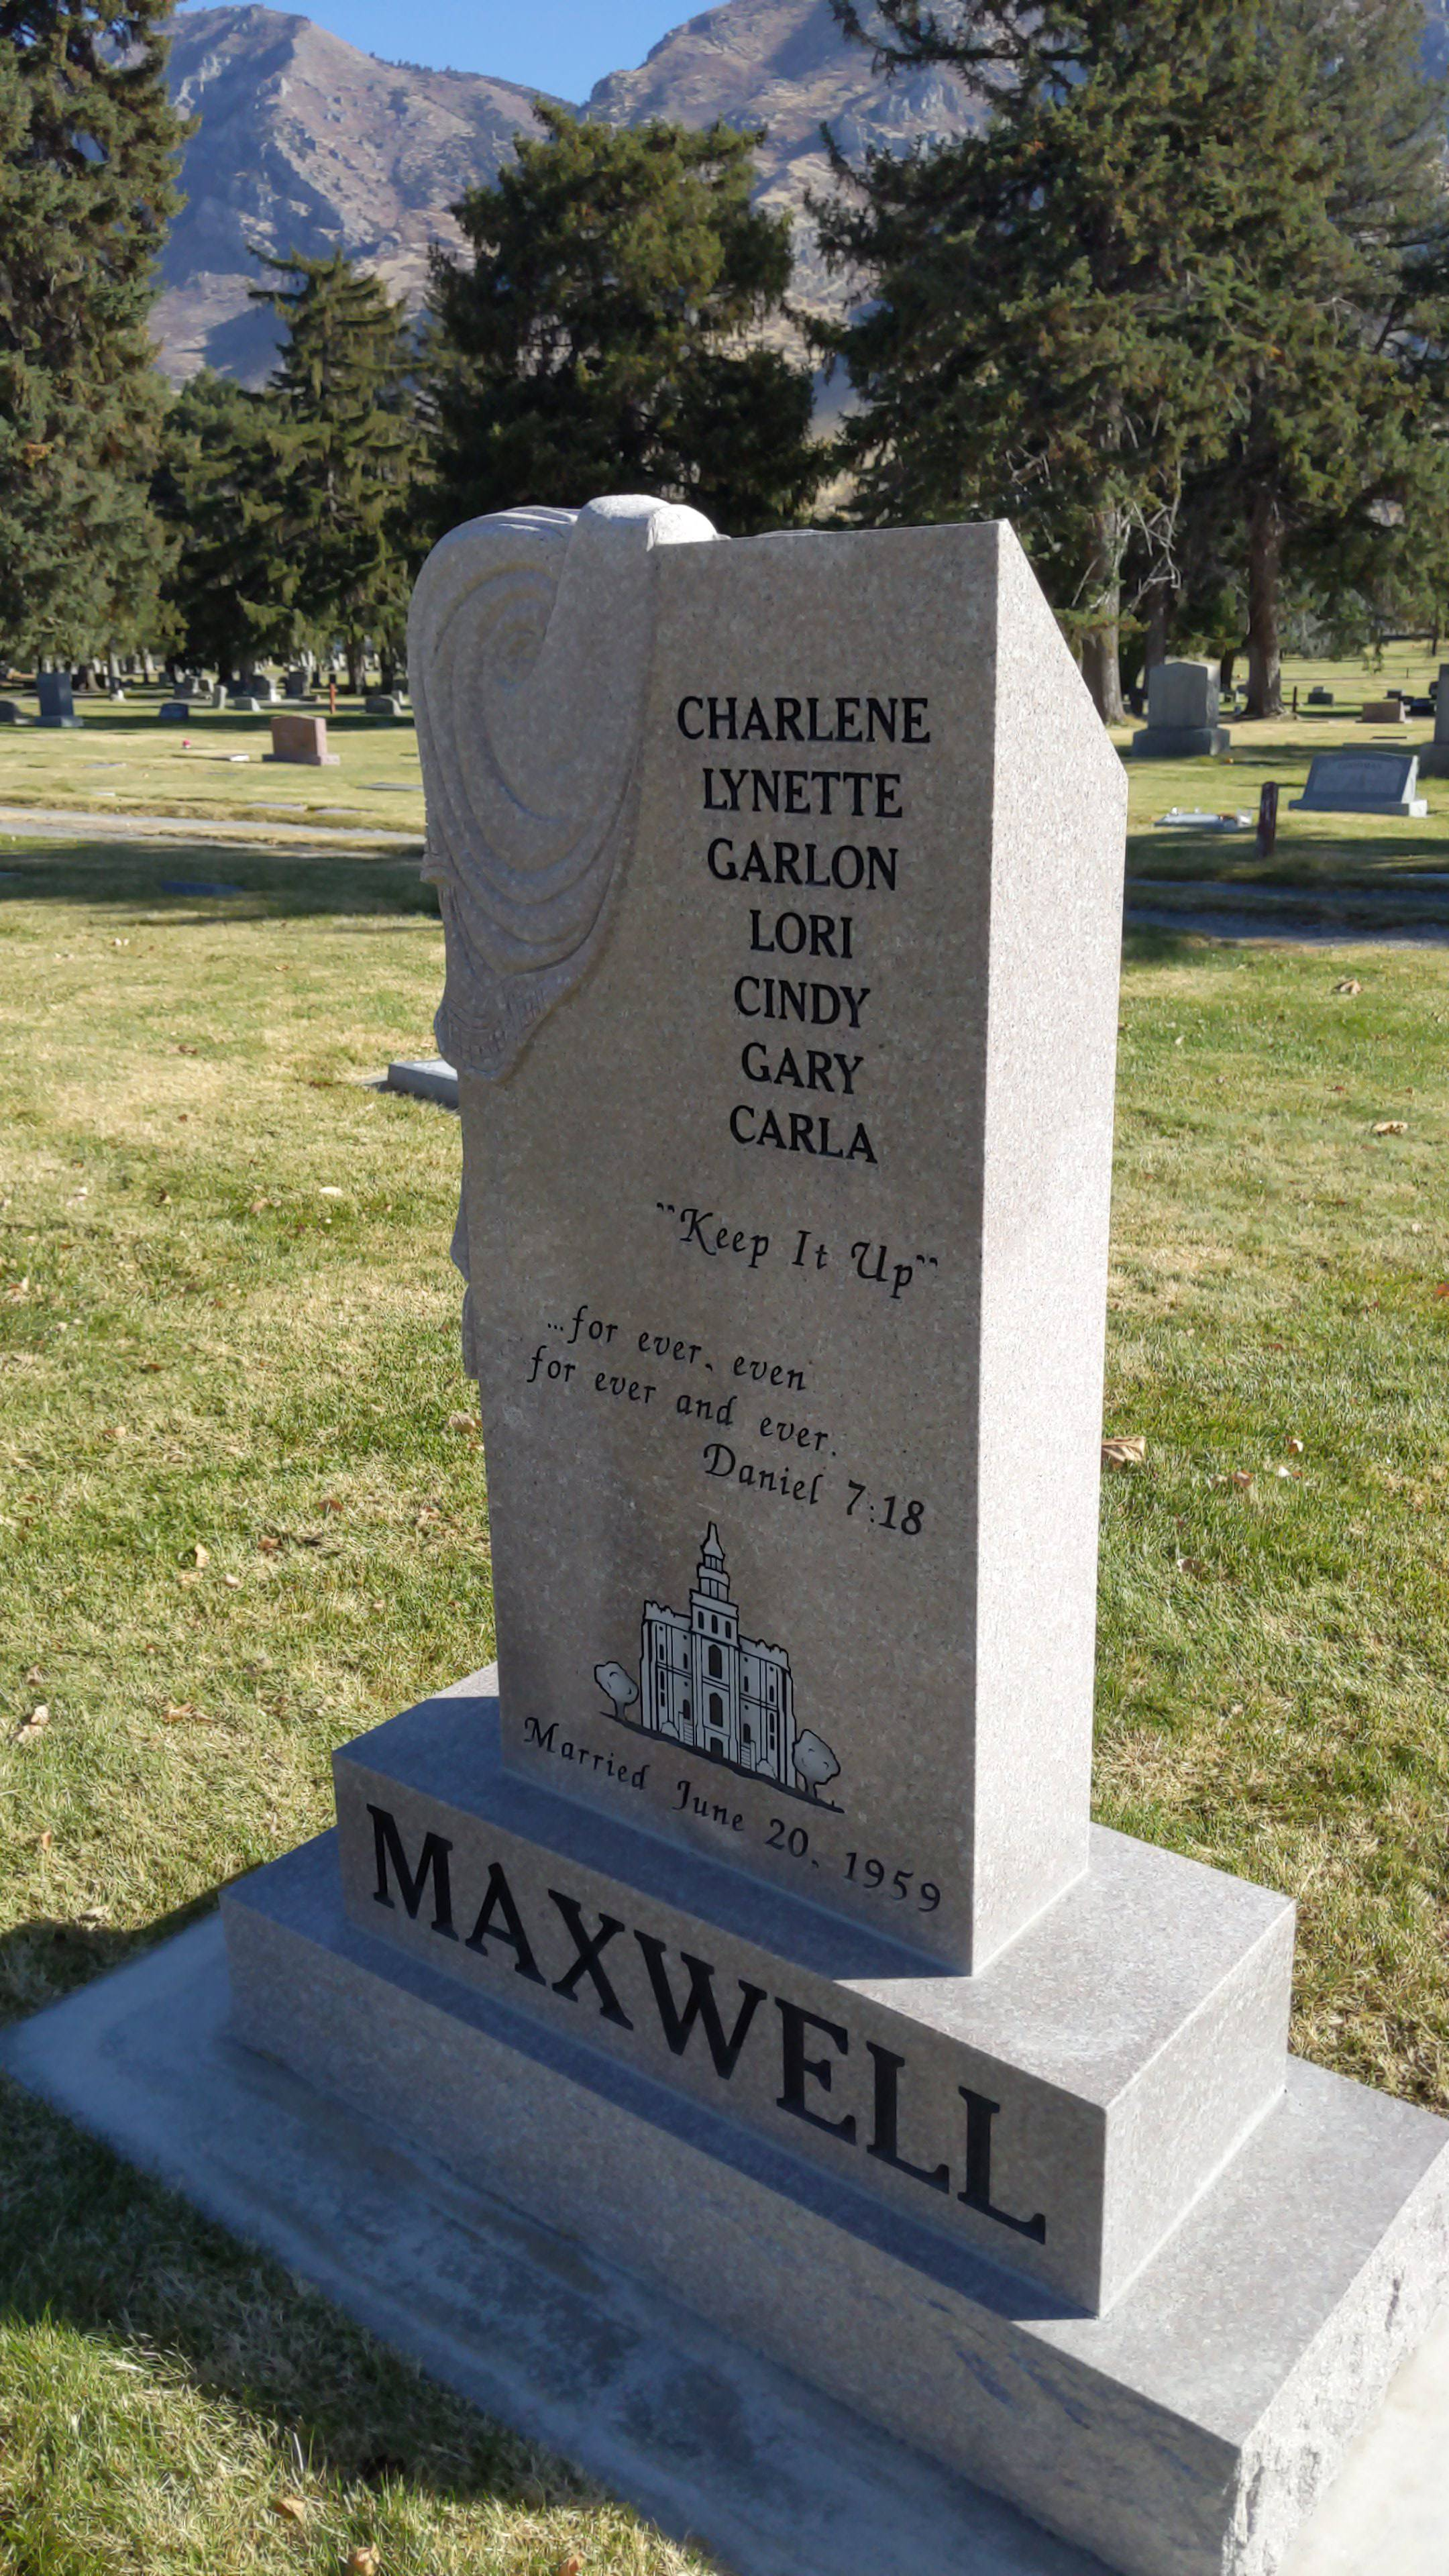obelisk: (341, 494, 1300, 2312)
